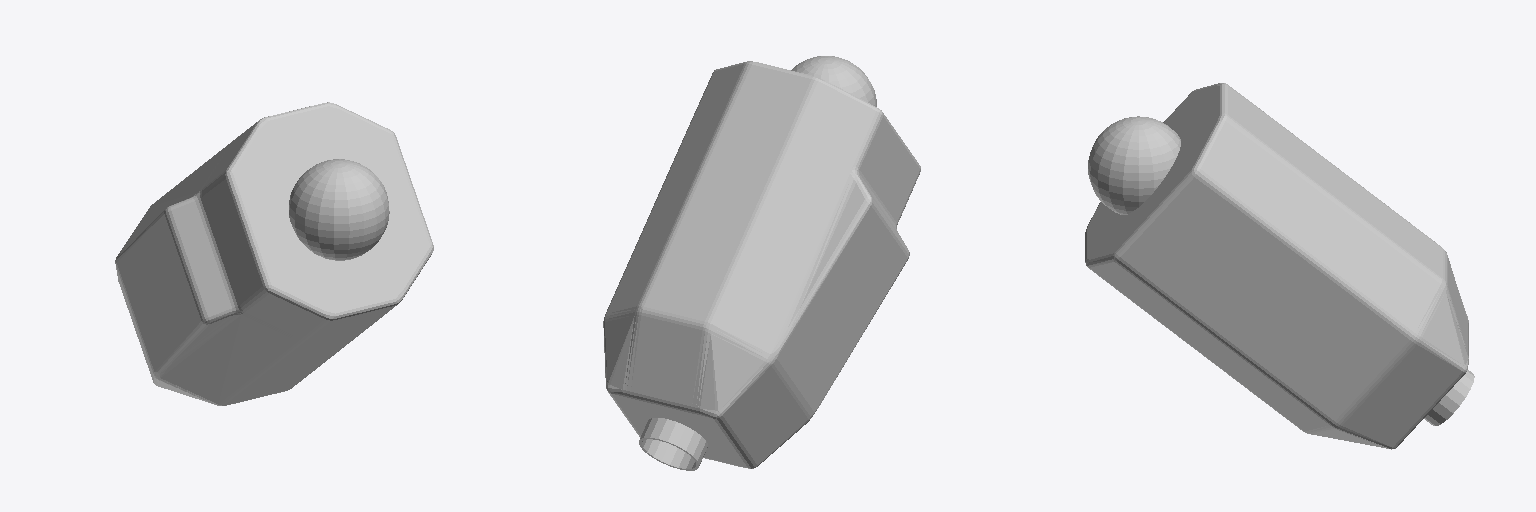
The model's file is RangeRobot_leftlowerarm.obj.
3 views of the same model, side by side, from view 1: azimuth 30°, elevation 25°; view 2: azimuth 150°, elevation 25°; view 3: azimuth 270°, elevation 25° (orthographic).
Visible parts, largest first — view 1: L_Elbow L_Arm_Cannon, L_Elbow; view 2: L_Elbow L_Arm_Cannon, L_Elbow L_Arm_Cannon LCannon_Barrel RCannon_Barrel R_Arm_Cannon , L_Elbow; view 3: L_Elbow L_Arm_Cannon, L_Elbow, L_Elbow L_Arm_Cannon LCannon_Barrel RCannon_Barrel R_Arm_Cannon .
Boxes of the visible parts, x1,y1,x2,y2 form: L_Elbow L_Arm_Cannon: [115, 102, 433, 405]; L_Elbow: [289, 159, 389, 260]; L_Elbow L_Arm_Cannon: [603, 61, 920, 468]; L_Elbow L_Arm_Cannon LCannon_Barrel RCannon_Barrel R_Arm_Cannon : [639, 418, 707, 470]; L_Elbow: [791, 56, 876, 106]; L_Elbow L_Arm_Cannon: [1085, 83, 1468, 449]; L_Elbow: [1088, 116, 1180, 214]; L_Elbow L_Arm_Cannon LCannon_Barrel RCannon_Barrel R_Arm_Cannon : [1424, 370, 1474, 425].
Bounding box in the file's own units: 1.23 × 1.97 × 2.13.